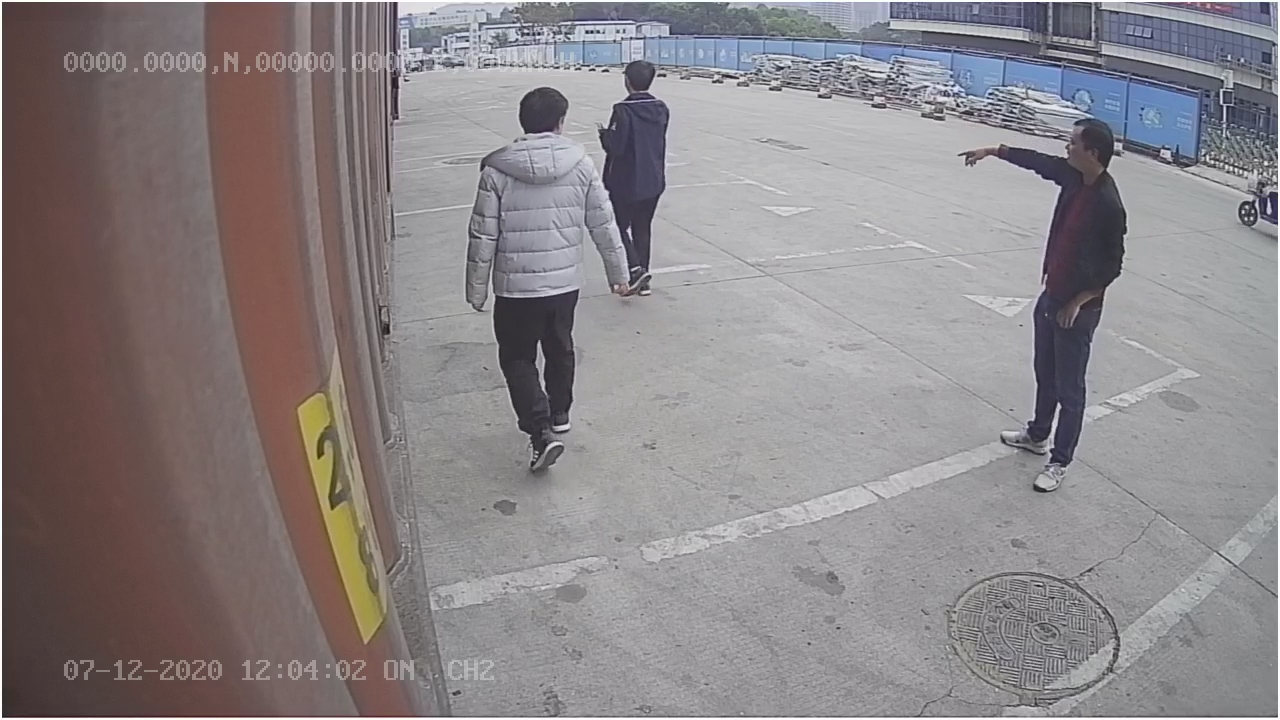person: (952, 106, 1132, 493)
